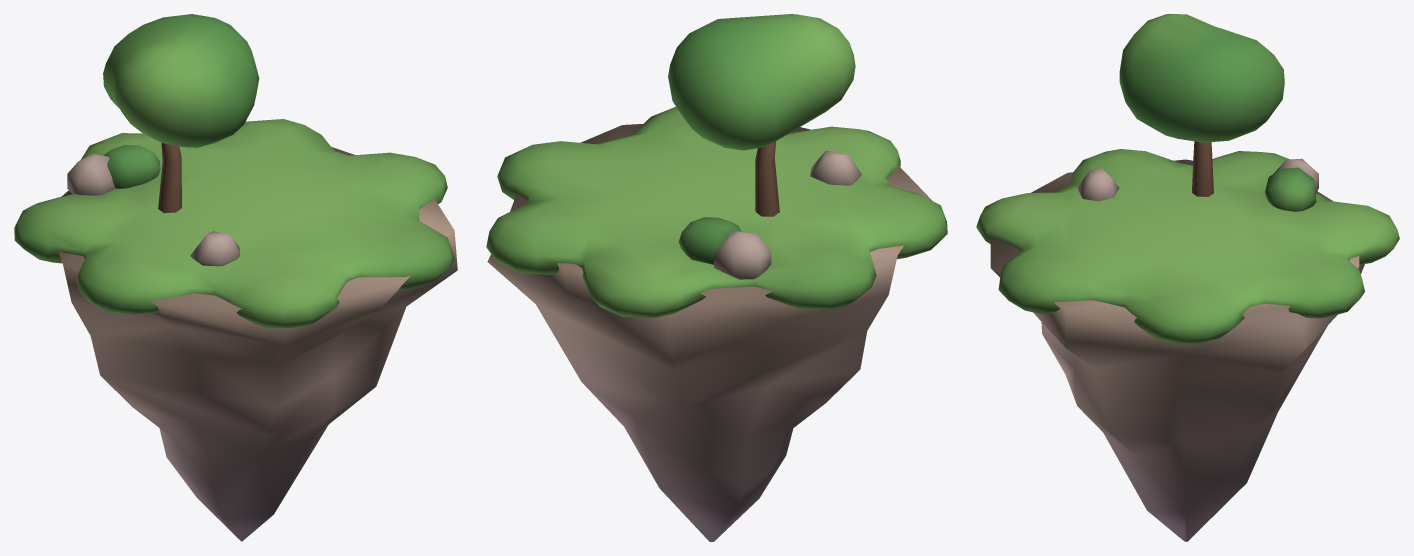
Rendered from env_sky_islet_0_lite.glb.
3 views of the same model, side by side, from view 1: azimuth 30°, elevation 25°; view 2: azimuth 150°, elevation 25°; view 3: azimuth 270°, elevation 25° (orthographic). The views are drawn at different scales.
Visible parts, largest first — view 1: SM_sky_sky_vc_x0_z0.025; view 2: SM_sky_sky_vc_x0_z0.025; view 3: SM_sky_sky_vc_x0_z0.025.
Part boxes in pixels (bbox=[...]): SM_sky_sky_vc_x0_z0.025: bbox=[14, 14, 457, 541]; SM_sky_sky_vc_x0_z0.025: bbox=[486, 14, 947, 541]; SM_sky_sky_vc_x0_z0.025: bbox=[976, 14, 1399, 541].
Bounding box in the file's own units: 7.35 × 9.41 × 7.43.
